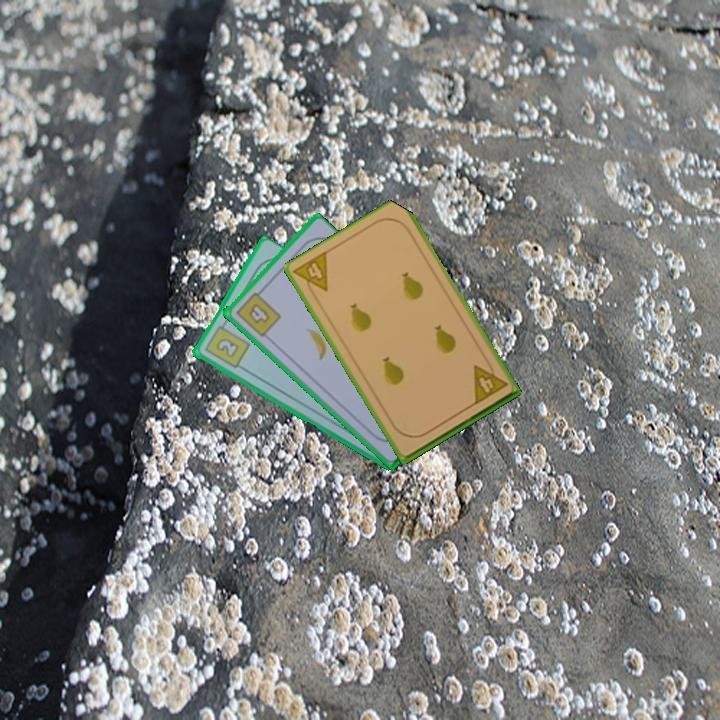2b: (201, 318, 252, 371)
4b: (232, 285, 283, 340)
4p: (290, 248, 331, 302), (469, 356, 510, 407)
